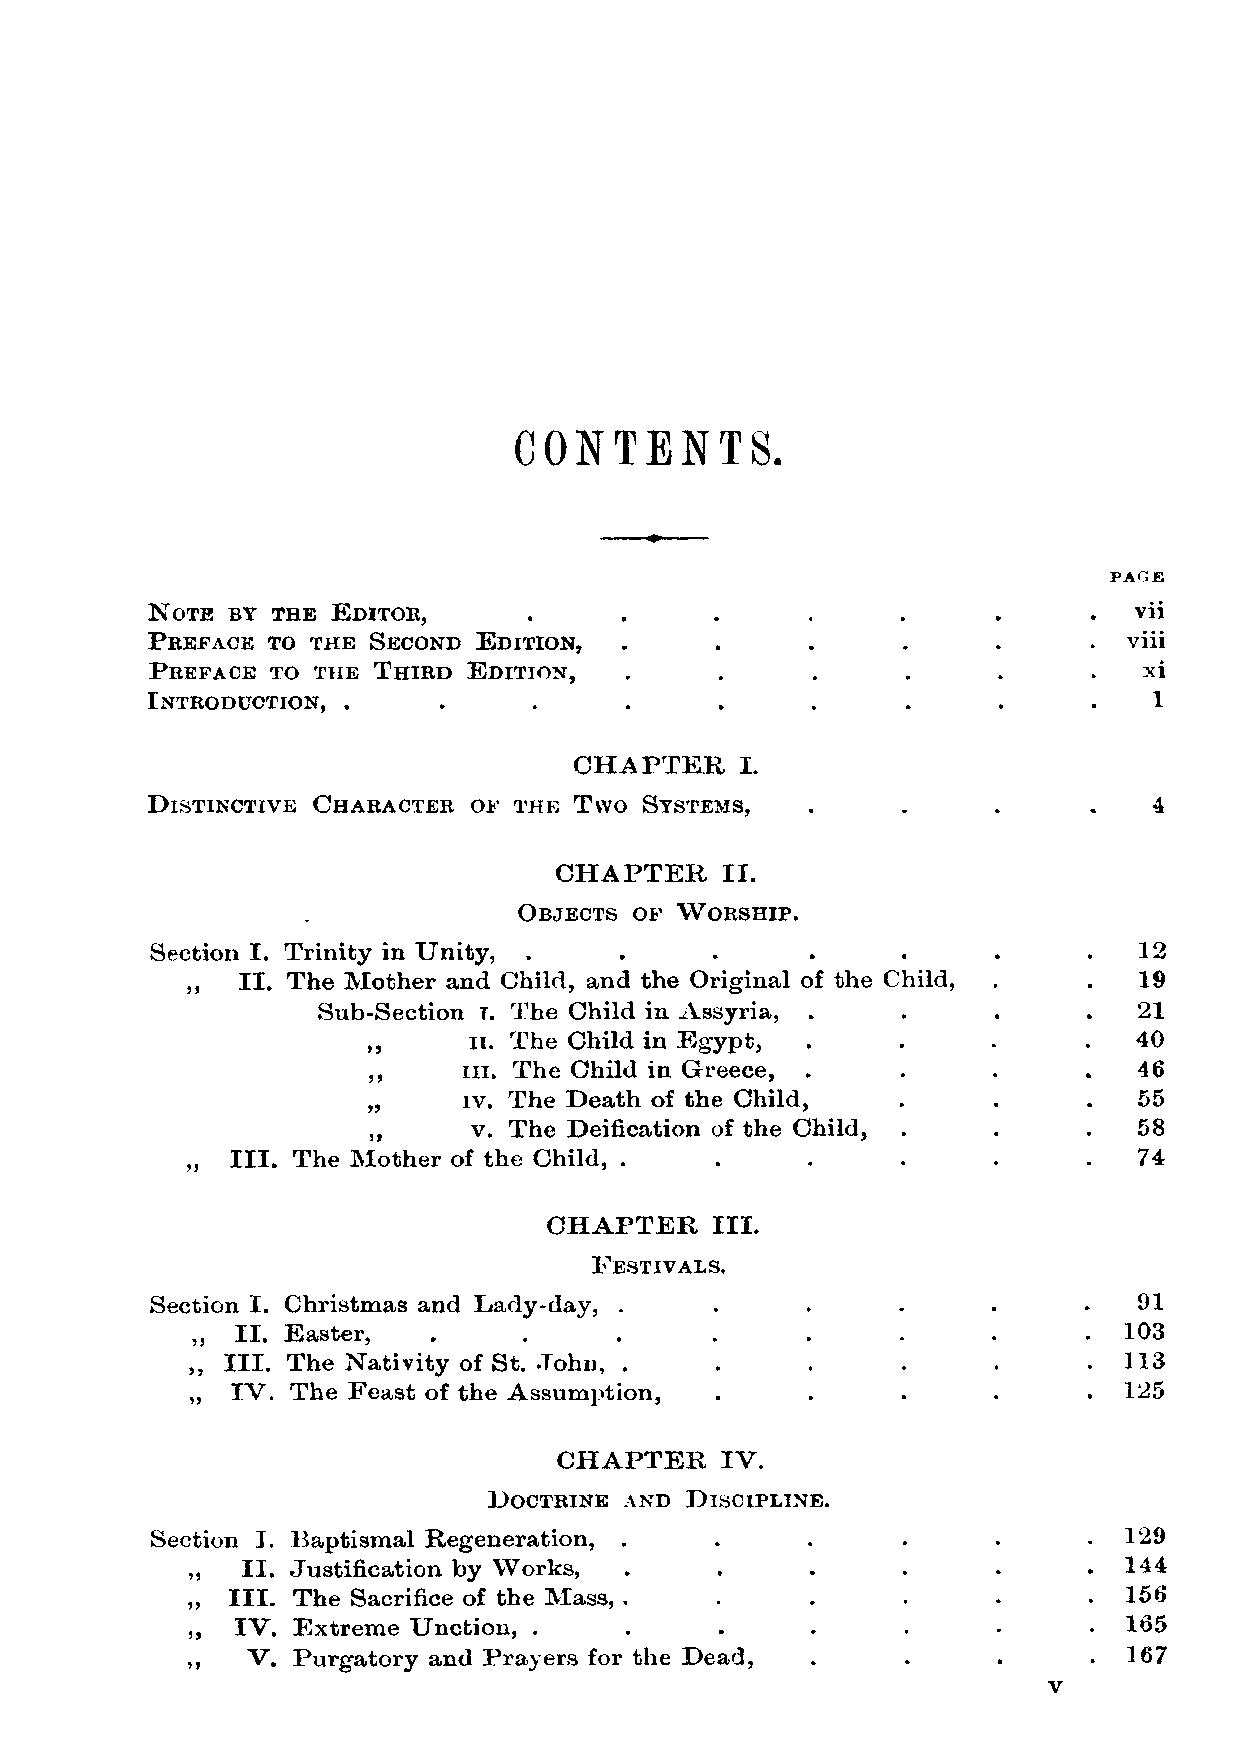TOC_chapter: (484, 1445, 833, 1511), (507, 858, 804, 923), (234, 970, 958, 994), (145, 792, 753, 819), (544, 1210, 764, 1276), (243, 1645, 756, 1671), (311, 998, 780, 1025), (224, 1380, 666, 1406), (145, 1292, 601, 1318), (148, 658, 580, 684), (513, 425, 782, 468), (148, 1526, 599, 1551), (148, 629, 586, 654), (224, 1143, 609, 1170), (146, 939, 498, 968), (462, 1117, 870, 1141), (221, 1351, 605, 1377), (236, 1555, 580, 1584), (225, 1586, 615, 1610), (458, 1088, 813, 1111), (458, 1057, 776, 1082), (146, 599, 432, 625), (467, 1028, 765, 1053), (229, 1614, 517, 1639), (570, 750, 760, 776), (145, 688, 323, 713), (225, 1322, 378, 1346)
TOC_pagenumber: (1123, 1553, 1169, 1576), (1123, 1318, 1166, 1342), (1125, 1643, 1168, 1665), (1123, 1380, 1168, 1401), (1123, 1612, 1168, 1633), (1123, 1523, 1165, 1546), (1125, 1582, 1169, 1602), (1126, 629, 1168, 650), (1123, 1350, 1165, 1370), (1137, 937, 1173, 960), (1133, 965, 1168, 988), (1129, 599, 1168, 619), (1135, 1145, 1168, 1169), (1133, 998, 1168, 1020), (1134, 1027, 1168, 1048), (1134, 1288, 1165, 1311), (1135, 1057, 1166, 1079), (1137, 658, 1169, 678), (1137, 1086, 1166, 1107), (1134, 1117, 1165, 1135), (1147, 786, 1166, 815), (1146, 684, 1164, 710)
content_pagenumber: (1045, 1676, 1068, 1696)
